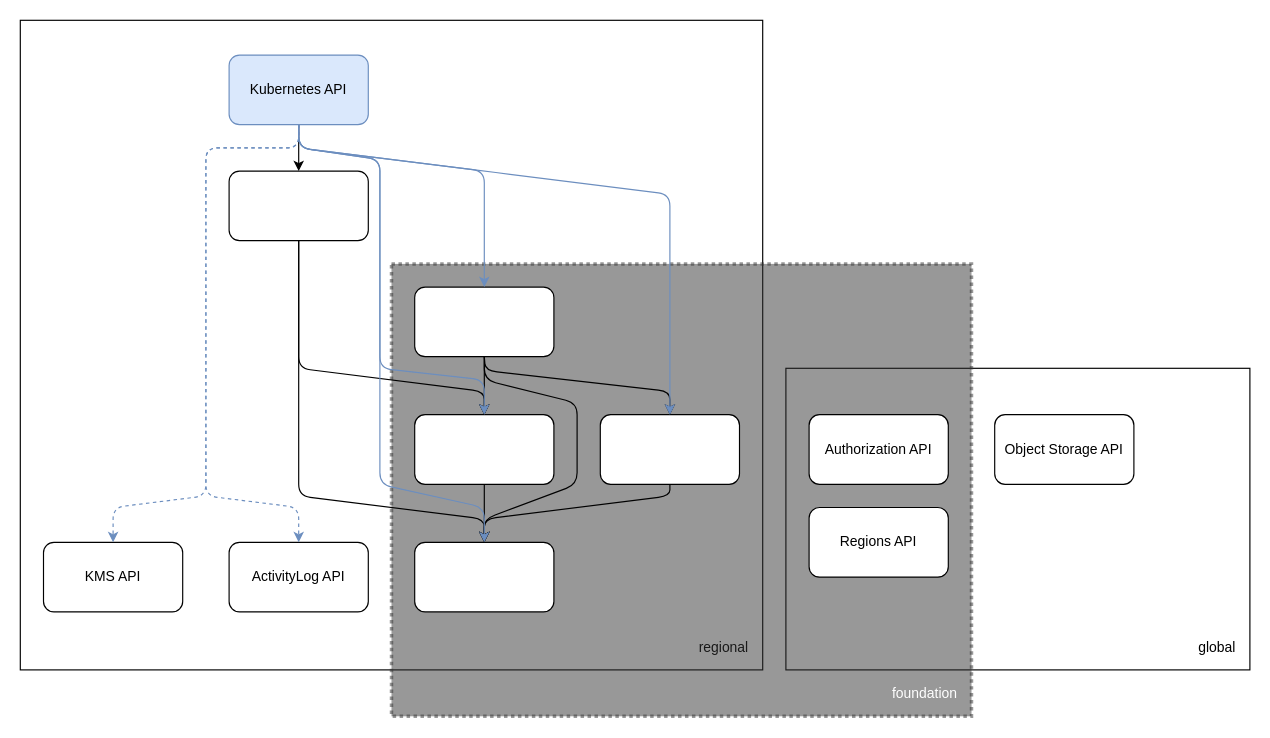
Some shapes in this 1270 by 738 pixel diagram are drawn without their labels. Each missing label, with the centre of its shape:
"Compute API" belongs at (x=484, y=321).
"Network API" belongs at (x=484, y=449).
"Network Loadbalancer API" belongs at (x=298, y=205).
"Storage API" belongs at (x=669, y=449).
"Workspace API" belongs at (x=484, y=576).
